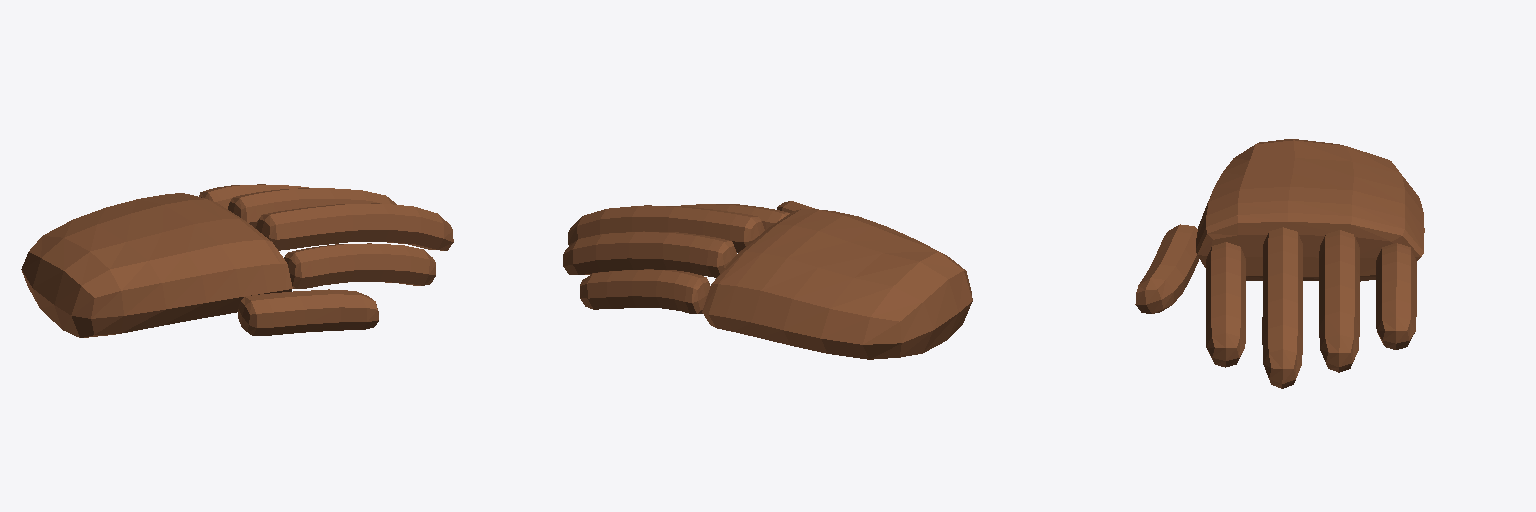
The model's file is leftHand.obj.
3 renders of one model, left to right at view 1: azimuth 30°, elevation 25°; view 2: azimuth 150°, elevation 25°; view 3: azimuth 270°, elevation 25°, orthographic.
Visible parts, largest first — view 1: Cube.008_Cube.011; view 2: Cube.008_Cube.011; view 3: Cube.008_Cube.011.
Part boxes in pixels (x1,y1,x2,y2): Cube.008_Cube.011: (21, 184, 453, 337); Cube.008_Cube.011: (563, 201, 972, 359); Cube.008_Cube.011: (1135, 139, 1424, 388).
Bounding box in the file's own units: 0.4277 × 0.0877 × 0.2727.